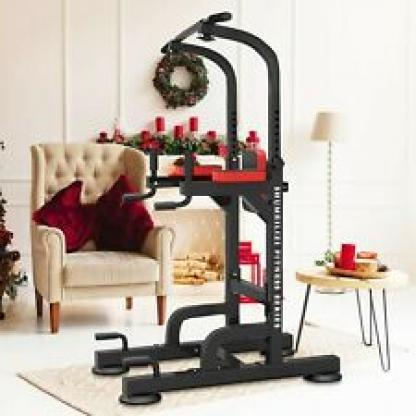chinning dipping: (121, 12, 342, 394)
